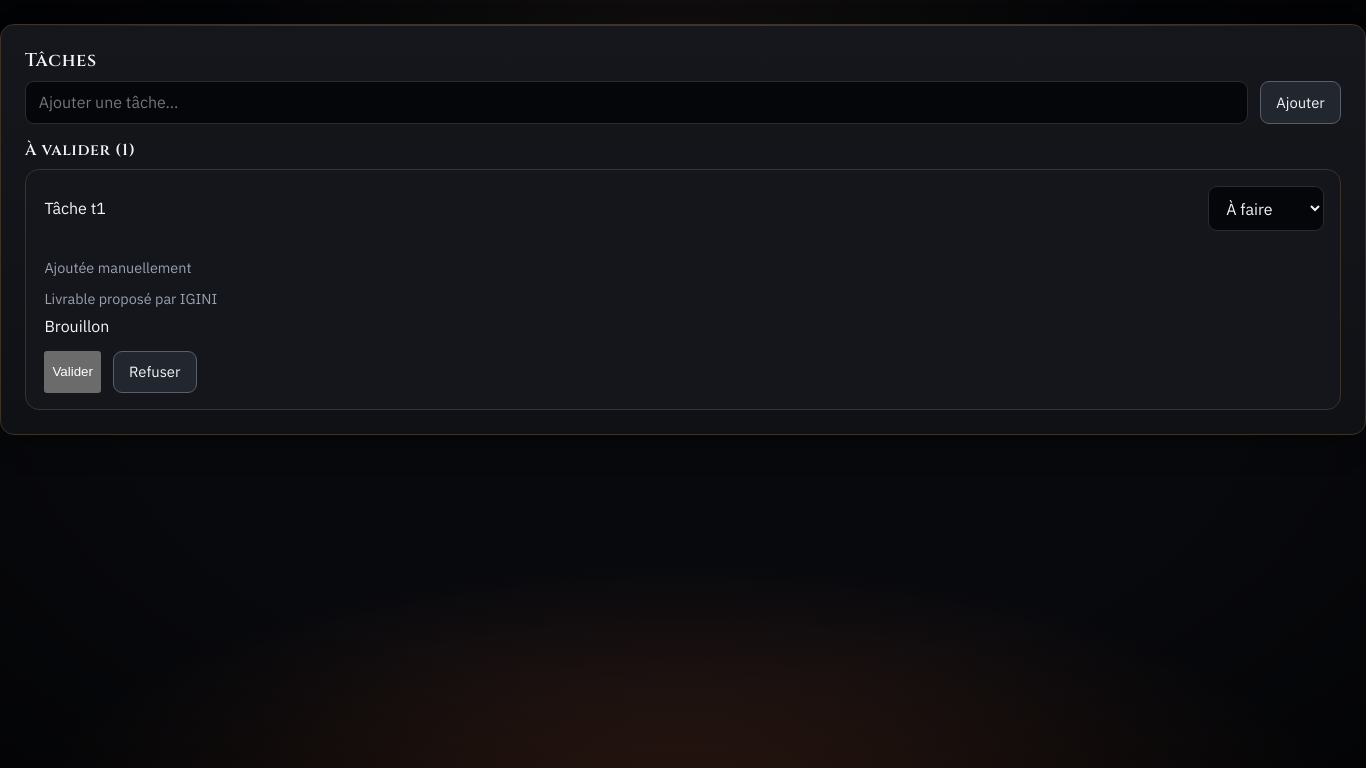
Test case: TasksSection — IGINI fait les tâches › Refuser demande un motif optionnel puis appelle /refuse
Step 1. Click the button "Refuser" → point(155, 372), box 113,351 -> 197,393
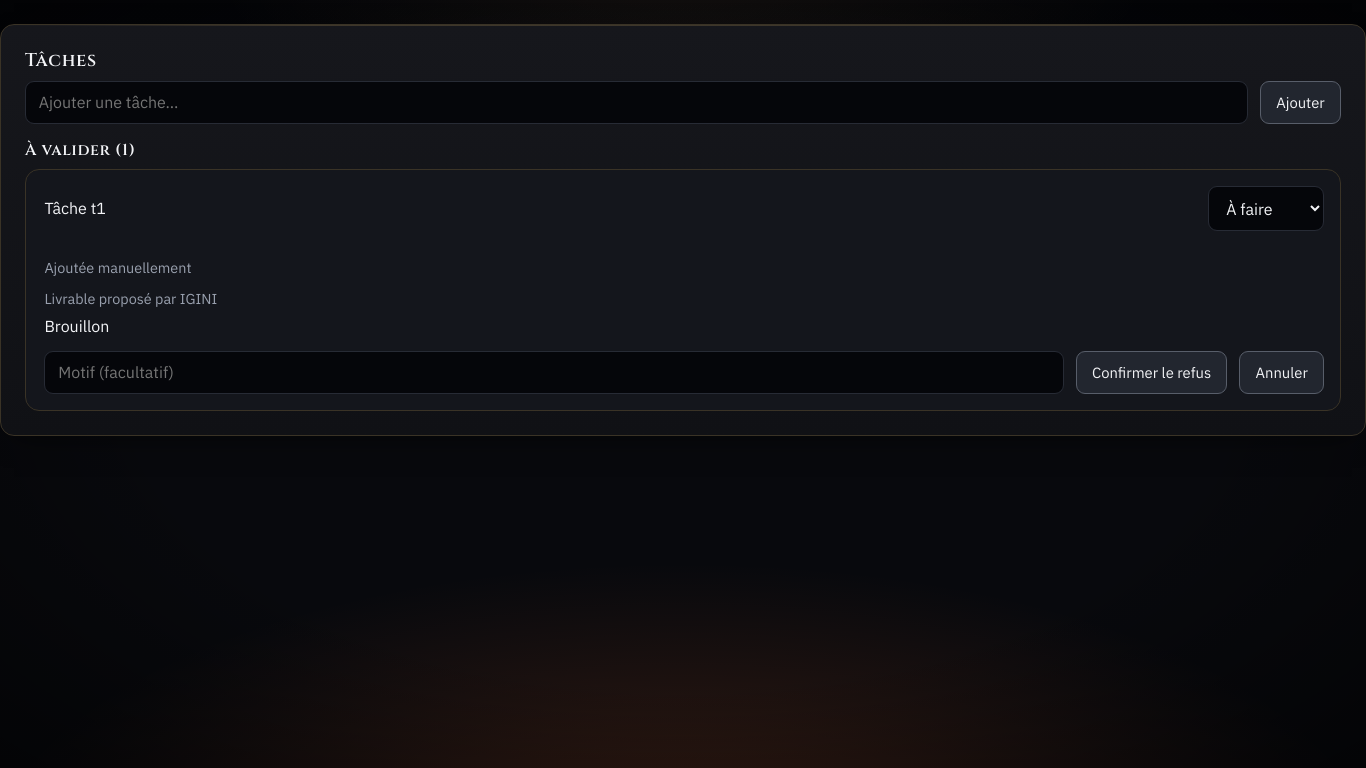
Step 2. Type "Trop long" into the field named "Motif du refus (facultatif)" → point(554, 372), box 44,351 -> 1064,394
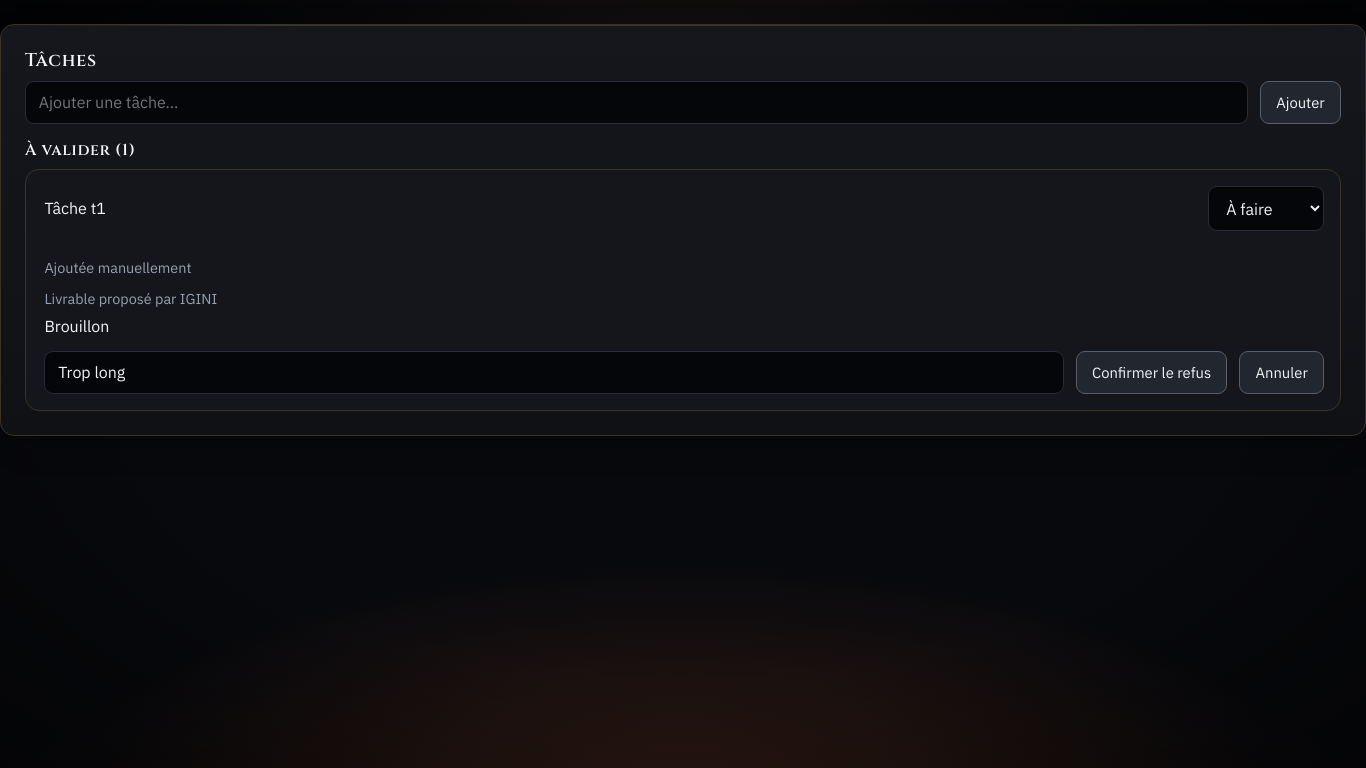
Step 3. Click the button "Confirmer le refus" → point(1152, 372), box 1076,351 -> 1227,394
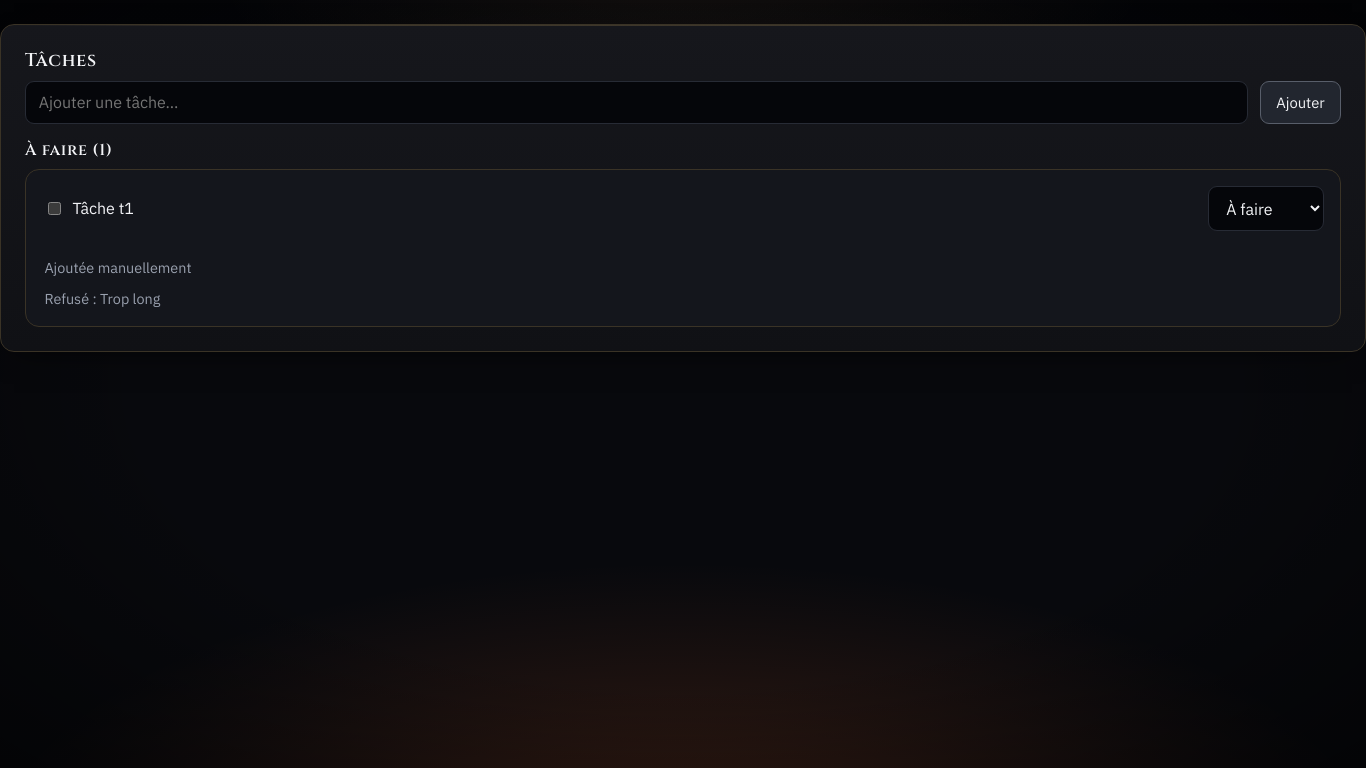
Expected: the text "Refusé : Trop long" is shown, 44,289 -> 160,308
Expected: the checkbox named "Faire faire : Tâche t1" is shown, 48,202 -> 61,215
